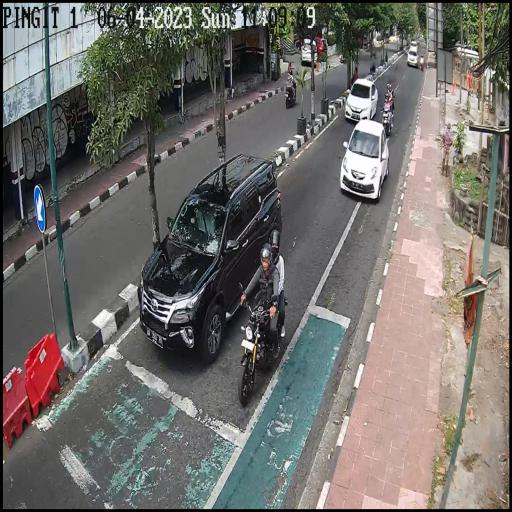mobil: (140, 155, 282, 356), (342, 119, 388, 204), (345, 76, 380, 122), (407, 48, 418, 69)
motor: (238, 285, 286, 408), (285, 81, 297, 111), (381, 106, 393, 135)
